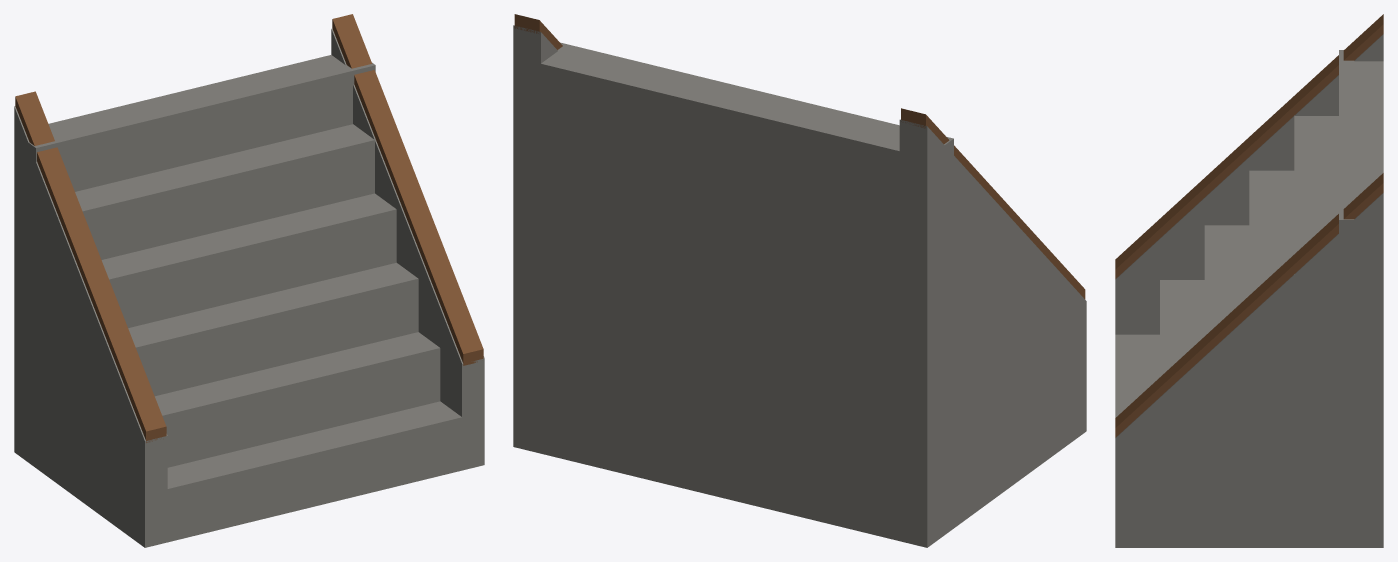
File: SN_Dock_Stairs.glb
3 views of the same model, side by side, from view 1: azimuth 30°, elevation 25°; view 2: azimuth 150°, elevation 25°; view 3: azimuth 270°, elevation 25° (orthographic). The views are drawn at different scales.
Parts seen in each view (by area): view 1: SN_Dock_Stairs; view 2: SN_Dock_Stairs; view 3: SN_Dock_Stairs.
Boxes of the visible parts, x1=… form: SN_Dock_Stairs: x1=14, y1=14, x2=484, y2=547; SN_Dock_Stairs: x1=513, y1=14, x2=1086, y2=547; SN_Dock_Stairs: x1=1115, y1=14, x2=1383, y2=547.
Bounding box in the file's own units: 3 × 3 × 2.
